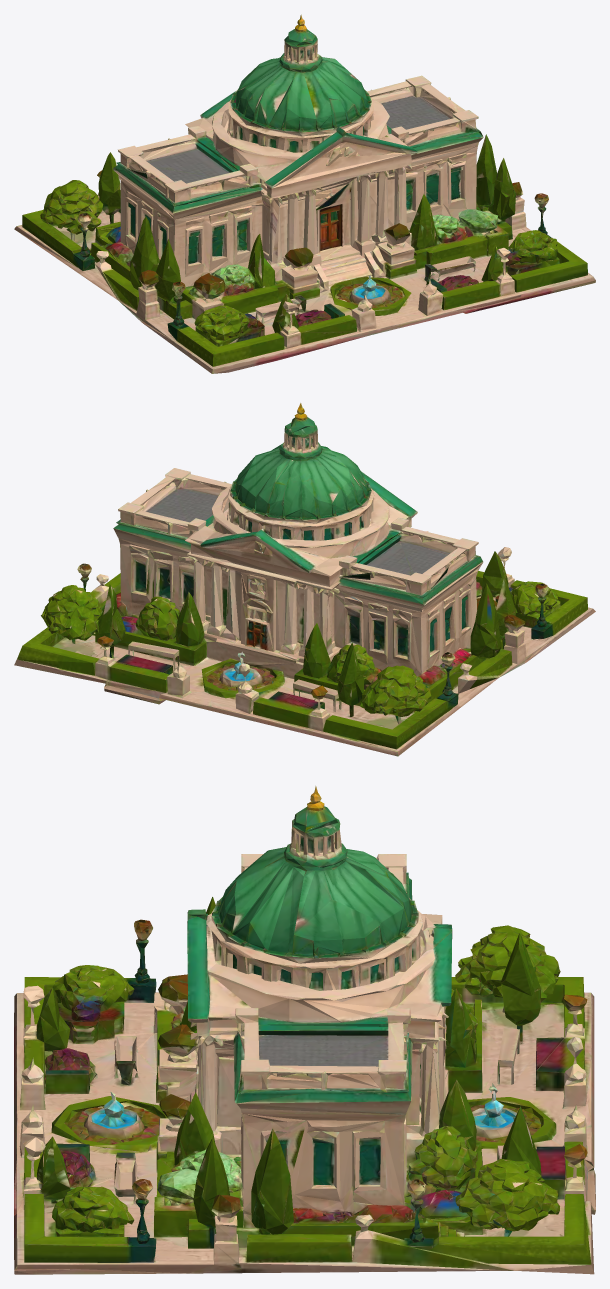
Rendered from town_bank.glb.
3 views of the same model, one above another, from view 1: azimuth 30°, elevation 25°; view 2: azimuth 150°, elevation 25°; view 3: azimuth 270°, elevation 25° (orthographic). The views are drawn at different scales.
Parts seen in each view (by area): view 1: normalize; view 2: normalize; view 3: normalize.
Part boxes in pixels (<box>): normalize: <box>14,14,595,373</box>; normalize: <box>14,403,595,756</box>; normalize: <box>14,786,595,1274</box>.
Size of the model in its own units: 1 by 0.6064 by 0.8955.
1 material, 1 textured.
